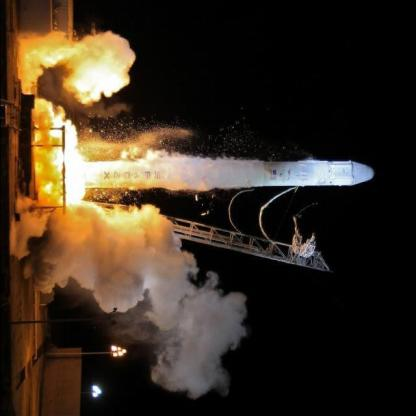MIL_TBM: (84, 159, 374, 192)
